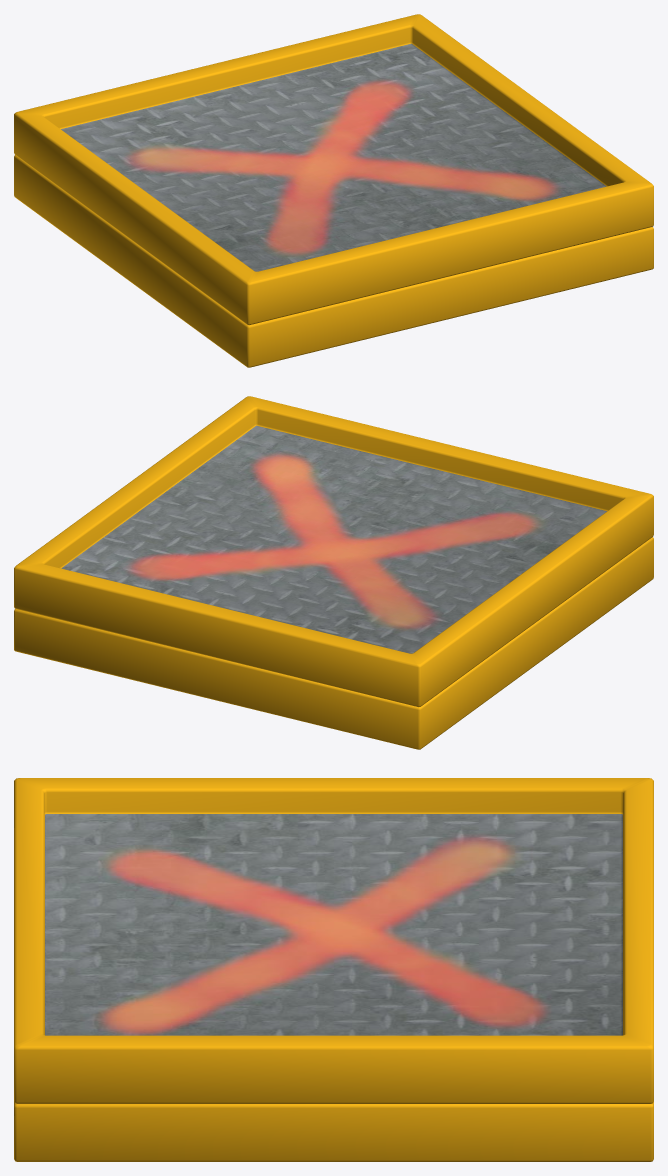
Rendered from sproing_platform.fbx.
The picture shows the model from 3 angles, top to bottom: view 1: azimuth 30°, elevation 25°; view 2: azimuth 150°, elevation 25°; view 3: azimuth 270°, elevation 25°; orthographic projection. The views are drawn at different scales.
Parts seen in each view (by area): view 1: sproing_platform.top, sproing_platform.bottom; view 2: sproing_platform.top, sproing_platform.bottom; view 3: sproing_platform.top, sproing_platform.bottom.
Boxes of the visible parts, x1,y1,x2,y2 form: sproing_platform.top: (14, 14, 653, 325); sproing_platform.bottom: (14, 155, 653, 367); sproing_platform.top: (14, 396, 653, 707); sproing_platform.bottom: (14, 537, 653, 749); sproing_platform.top: (14, 778, 653, 1103); sproing_platform.bottom: (14, 1101, 653, 1161).
Size of the model in its own units: 200 by 40 by 200.
